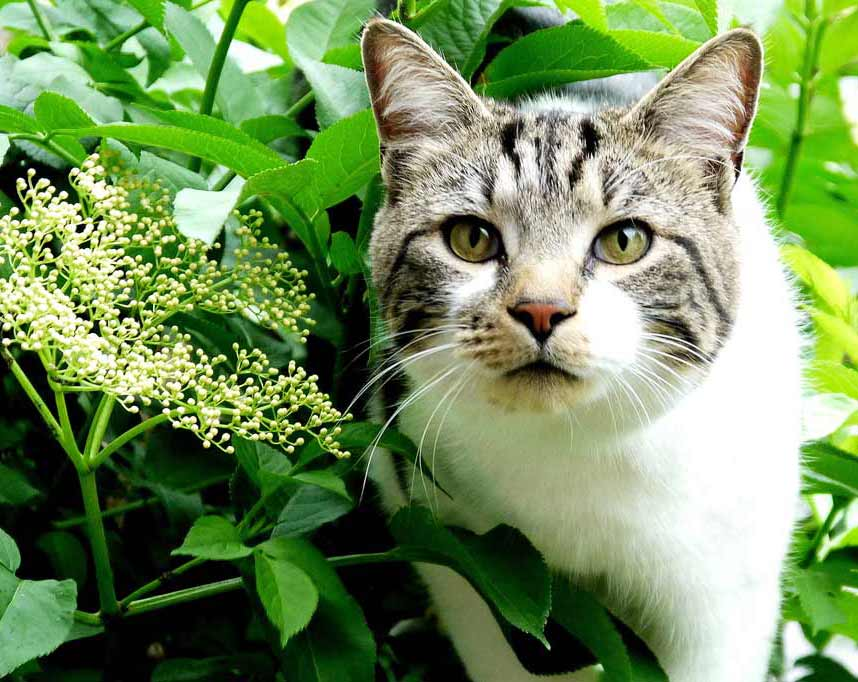cat: (359, 17, 806, 682)
